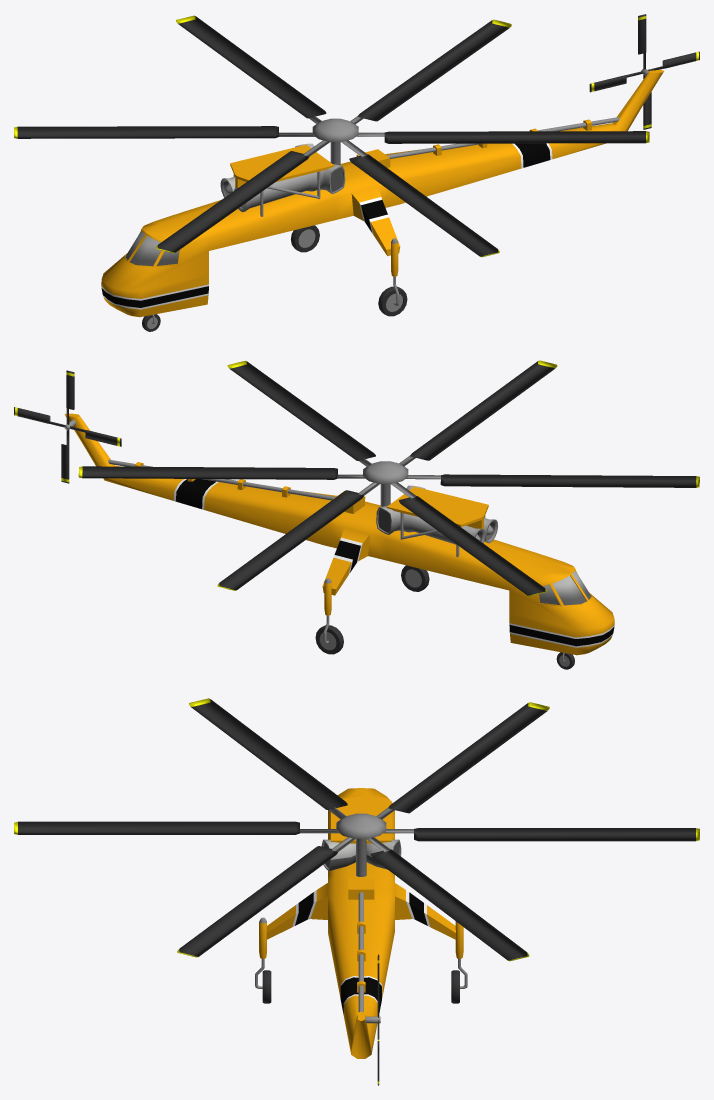
Rendered from sky crane.glb.
3 views of the same model, one above another, from view 1: azimuth 30°, elevation 25°; view 2: azimuth 150°, elevation 25°; view 3: azimuth 270°, elevation 25° (orthographic). The views are drawn at different scales.
Visible parts, largest first — view 1: sky crane chassis, main rotor, tail rotor; view 2: sky crane chassis, main rotor, tail rotor; view 3: main rotor, sky crane chassis.
Boxes of the visible parts, bbox=[...] form: sky crane chassis: bbox=[101, 70, 663, 331]; main rotor: bbox=[14, 15, 649, 257]; tail rotor: bbox=[589, 14, 699, 129]; sky crane chassis: bbox=[64, 413, 614, 669]; main rotor: bbox=[78, 360, 699, 596]; tail rotor: bbox=[14, 370, 121, 483]; main rotor: bbox=[14, 698, 699, 961]; sky crane chassis: bbox=[255, 788, 467, 1058].
Bounding box in the file's own units: 7.64 × 2.22 × 6.76.
1 material, 1 textured.
